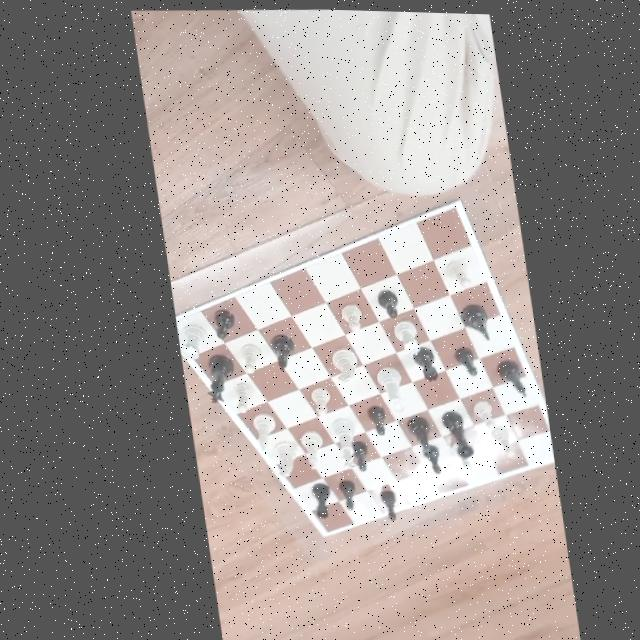chessboard-corner: (451, 193, 459, 200), (306, 531, 314, 537), (541, 450, 543, 456)
